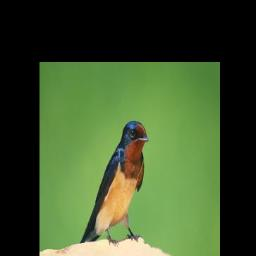Swallow: (79, 119, 150, 247)
